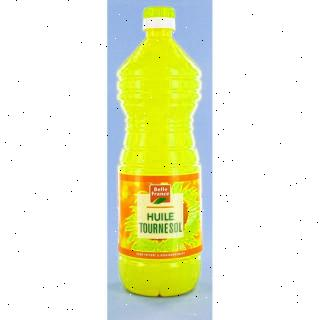Plastic-bottle: (116, 4, 208, 302)
